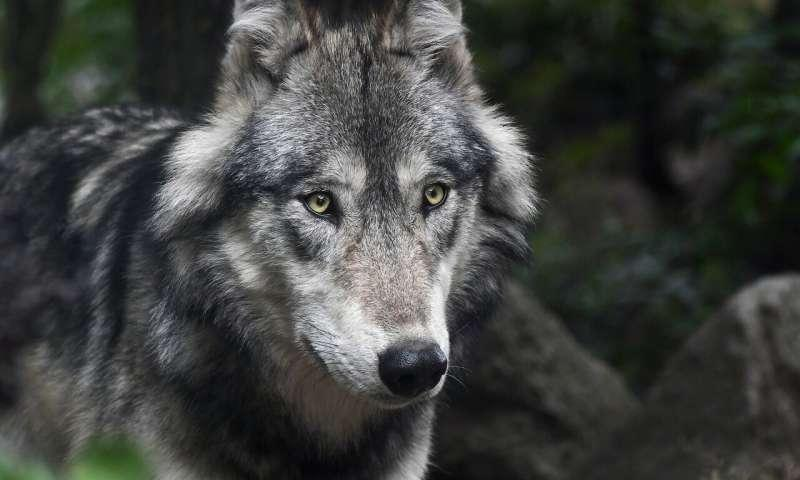Wolf: (3, 0, 538, 480)
